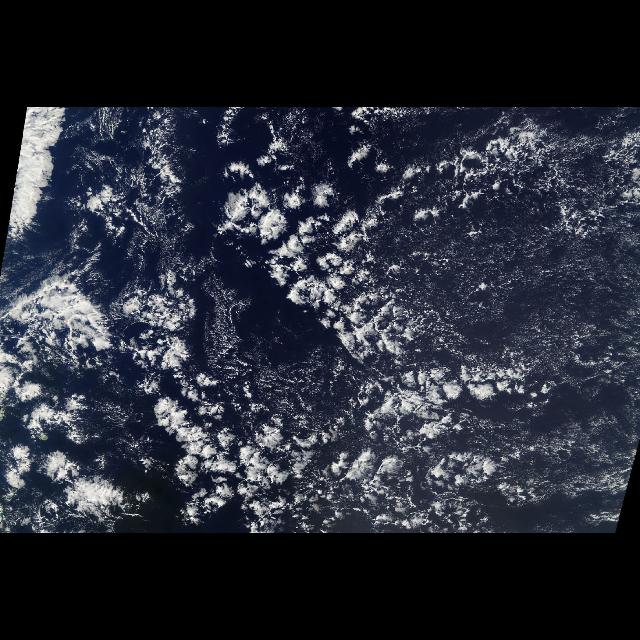Flower: (4, 157, 522, 533)
Gravel: (370, 114, 634, 246)
Sugar: (436, 225, 640, 358), (118, 111, 218, 279), (519, 415, 639, 531), (194, 289, 282, 397)
